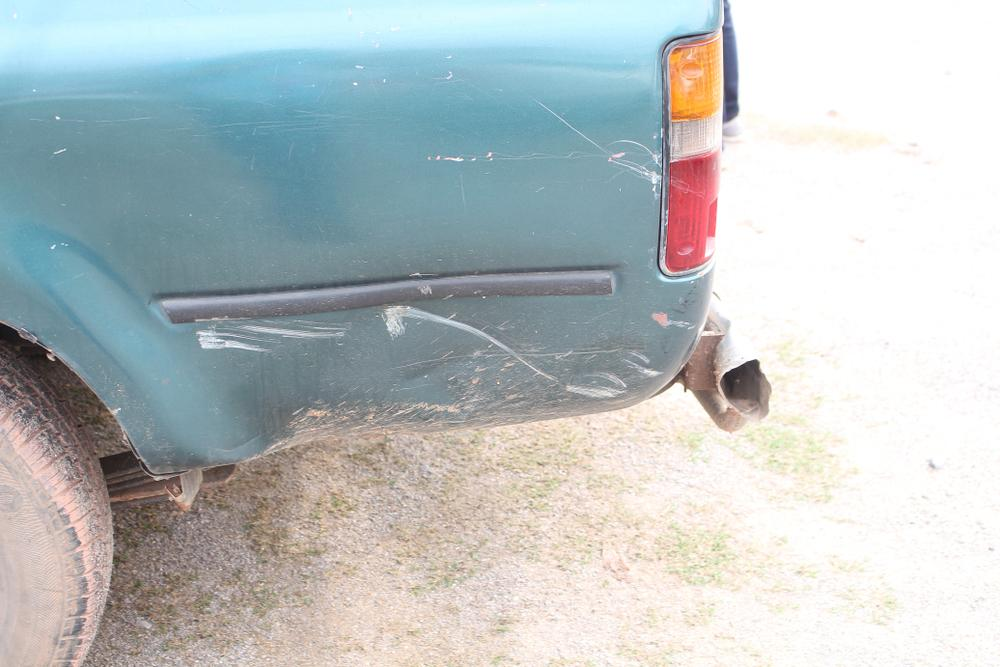scratch: (383, 302, 667, 409), (185, 309, 368, 365)
